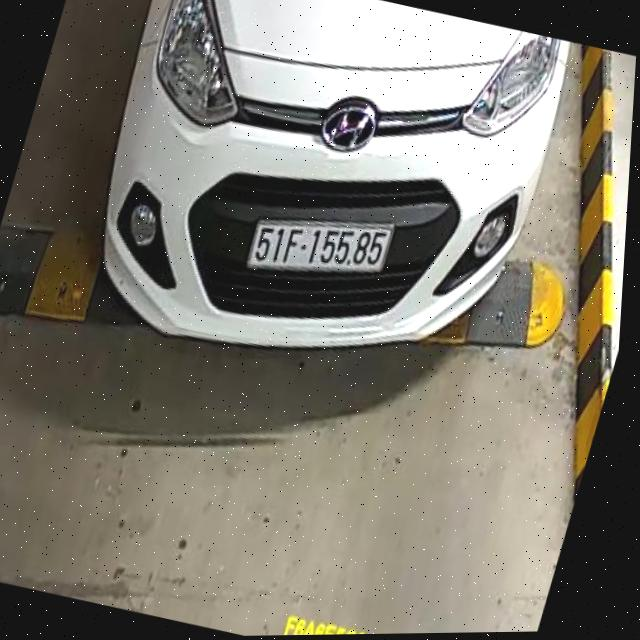car: (36, 0, 589, 430)
plate: (245, 196, 397, 295)
